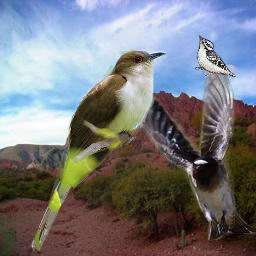Cuckoo: (30, 48, 167, 251)
Swallow: (133, 59, 256, 240)
Woodpecker: (194, 35, 236, 77)
